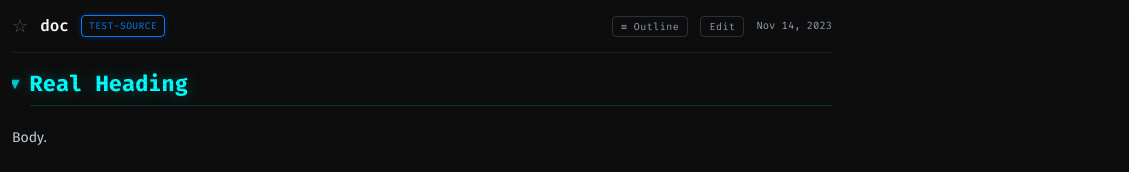
KnowledgePreview — frontmatter is metadata, not body text › outline skips frontmatter keys and lists only real headings
Check: the text "Body." is shown, box [12, 130, 47, 146]
What coordinates should you click on to do the following:
click the button "≡ Outline"
I would click on:
 (650, 26)
Its box is [612, 16, 688, 36].
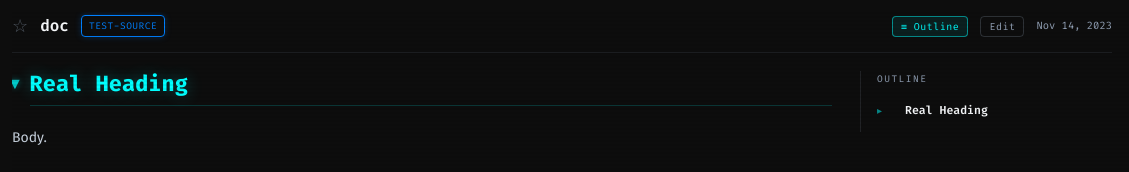
Check: the button "Real Heading" is shown, box [897, 98, 1080, 123]
